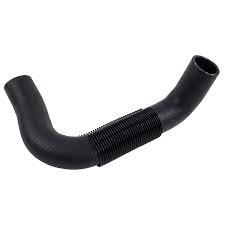radiator_hose: (7, 55, 220, 170)
